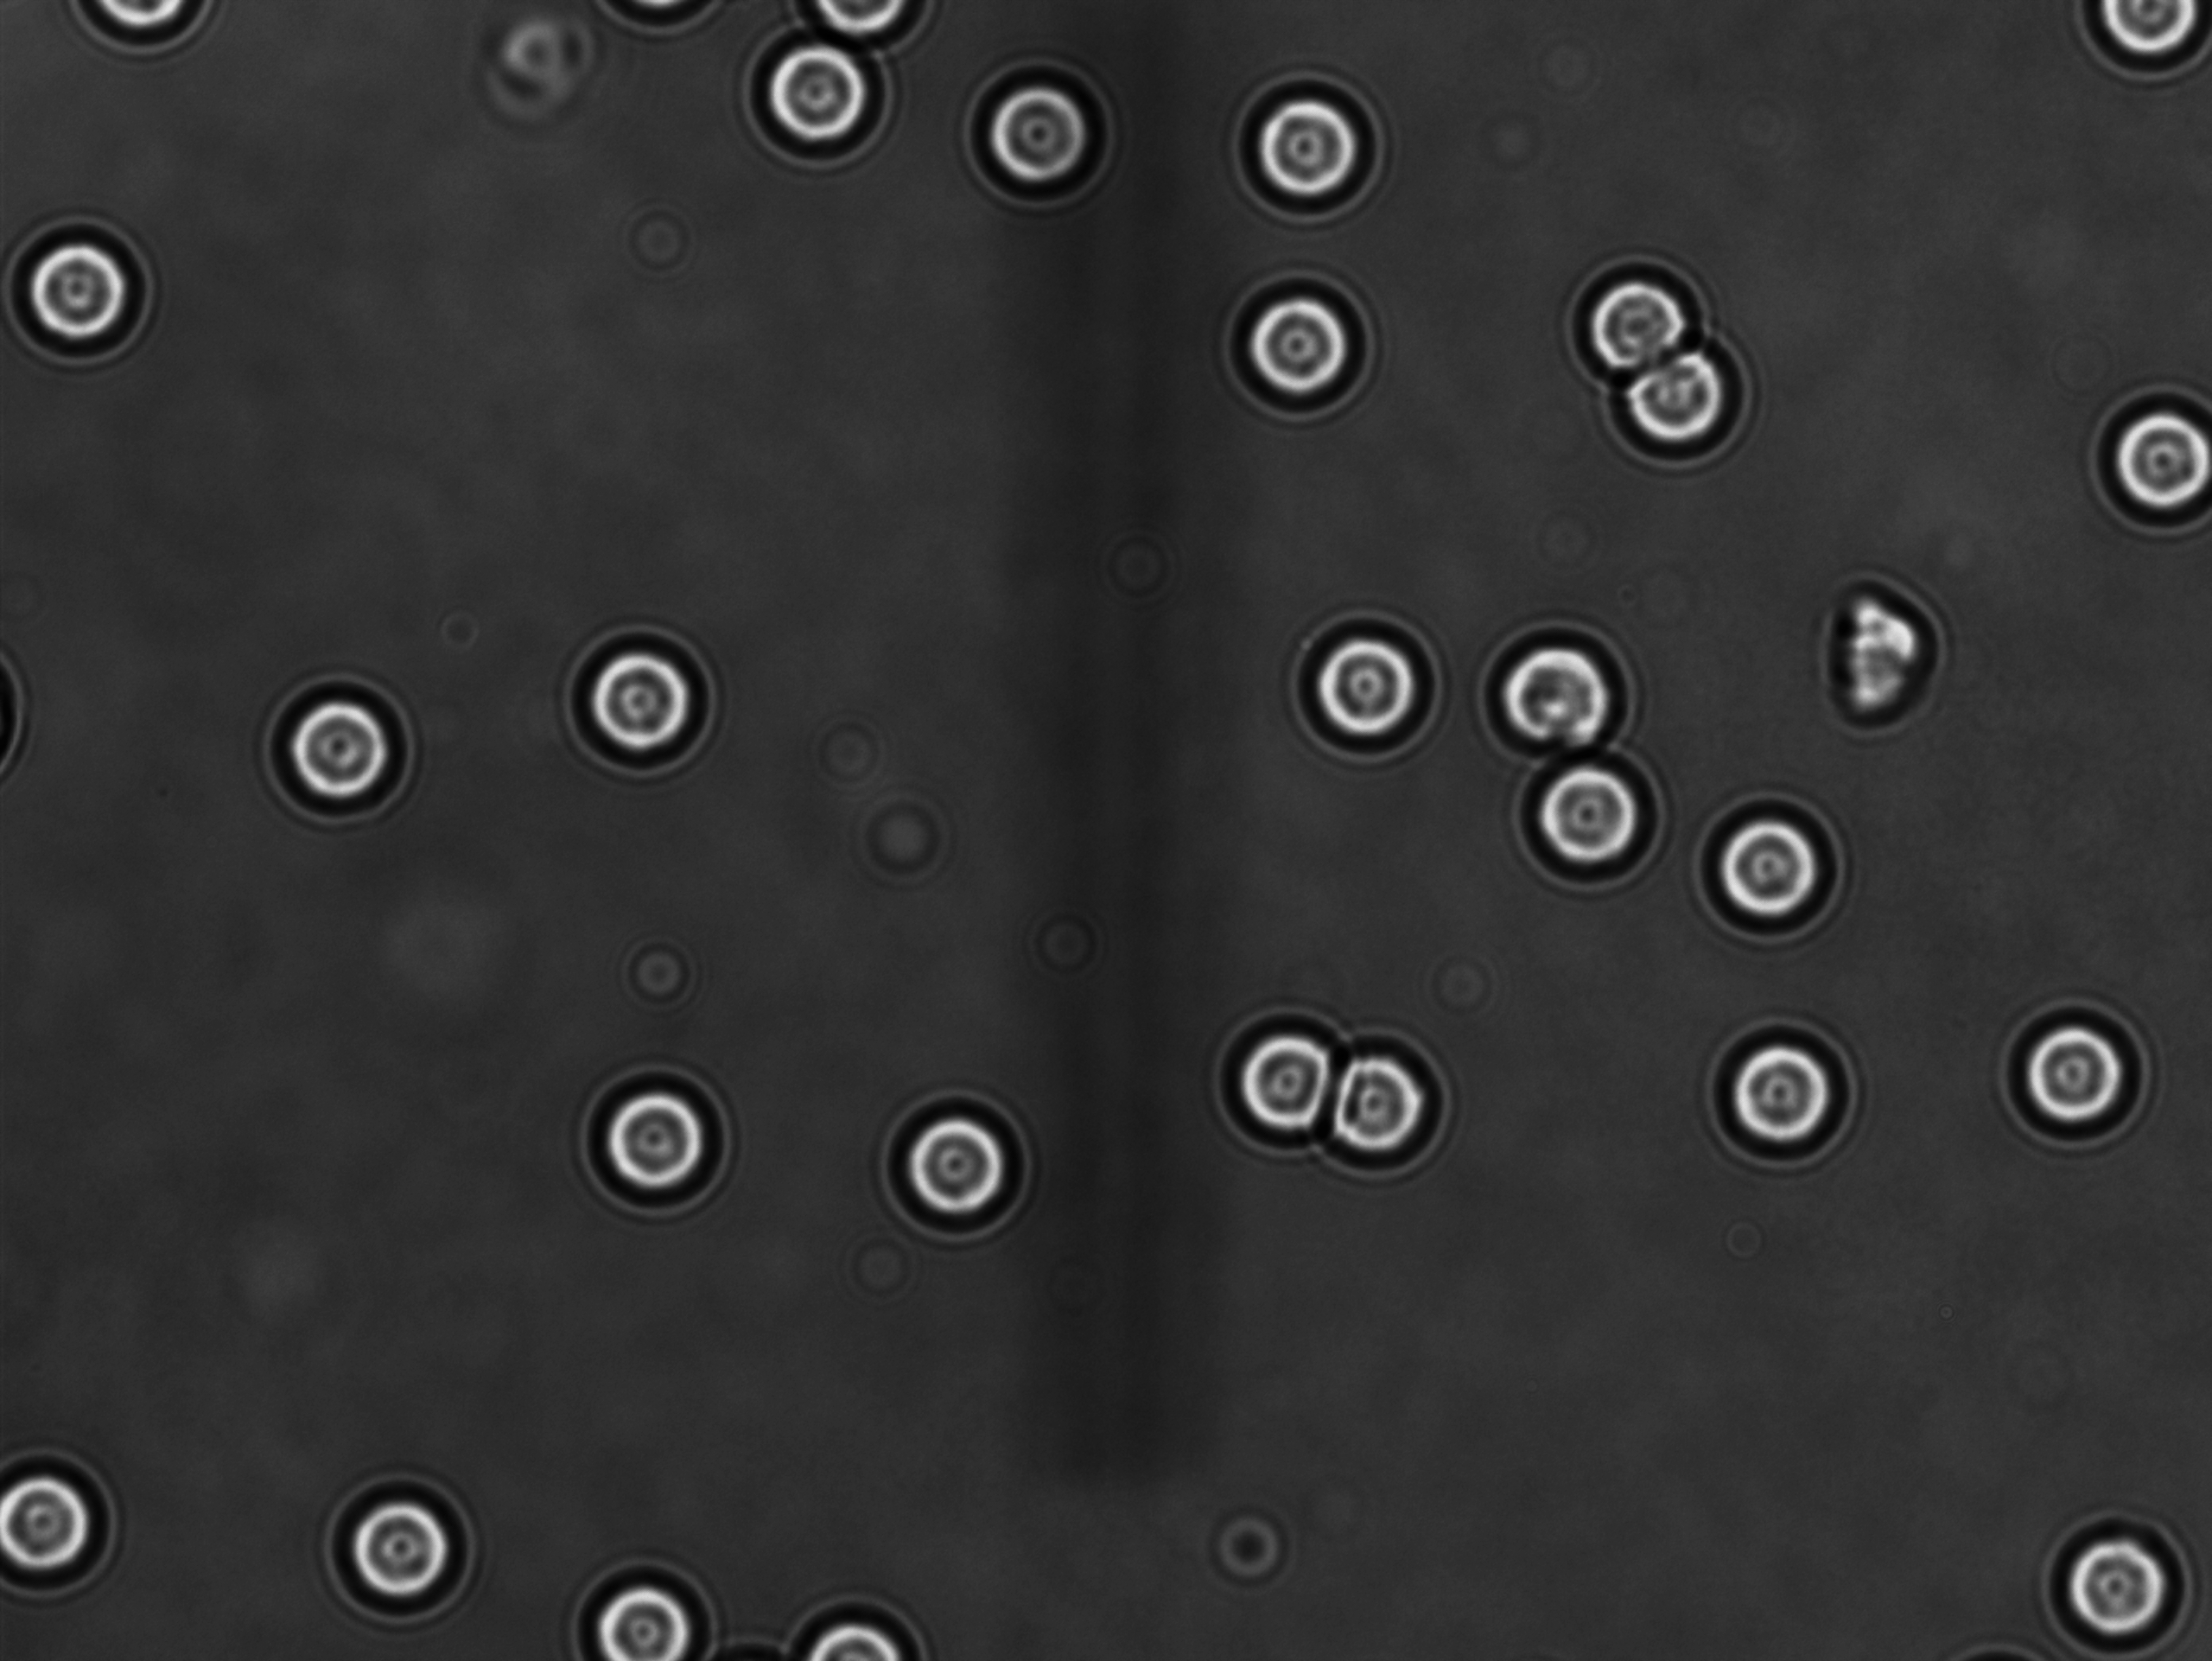depth:20: (1989, 984, 2175, 1181), (1204, 258, 1397, 443), (244, 660, 443, 839), (551, 609, 740, 797), (1492, 724, 1678, 911), (1266, 588, 1446, 778), (1465, 593, 1657, 769), (1579, 321, 1774, 494), (1696, 1008, 1877, 1190), (572, 1052, 754, 1230), (1685, 780, 1868, 956), (731, 12, 918, 185), (0, 201, 167, 389), (1197, 989, 1369, 1171), (956, 51, 1132, 227), (1540, 230, 1717, 405), (865, 1078, 1038, 1254), (1225, 63, 1396, 241), (1301, 1019, 1469, 1200), (2029, 1499, 2212, 1661), (321, 1455, 485, 1635), (2081, 370, 2212, 546), (563, 1548, 736, 1661)
